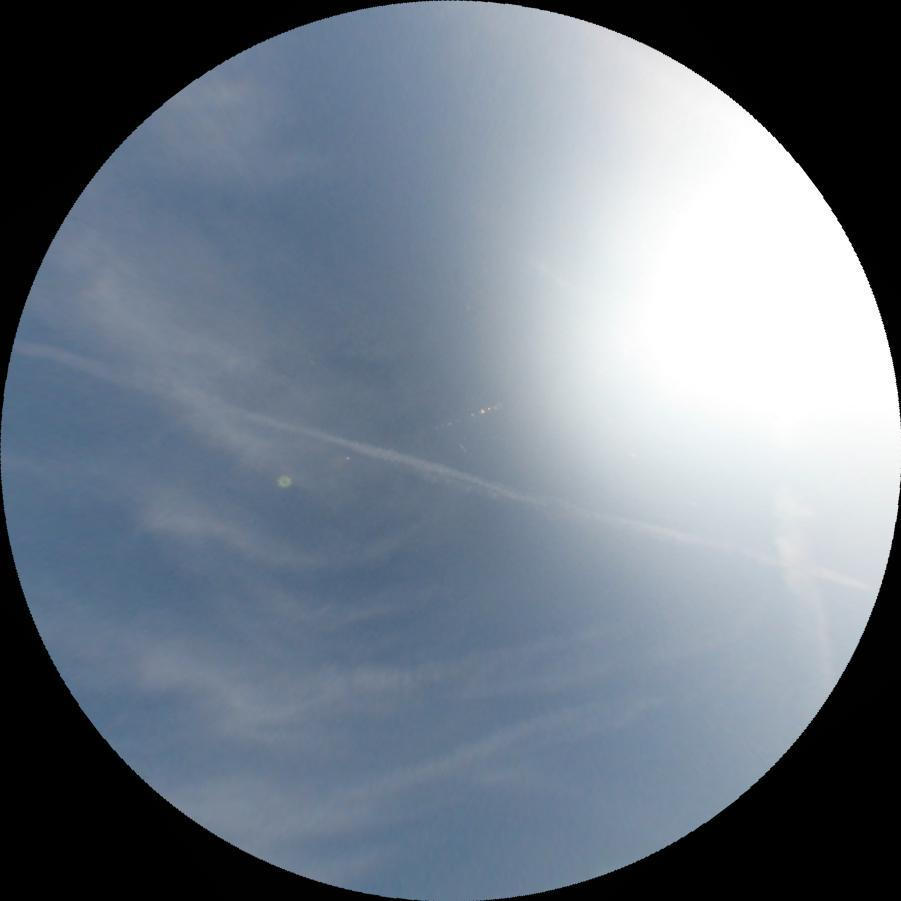contrail veryold: (9, 337, 875, 607), (243, 579, 788, 747), (318, 676, 666, 842), (766, 484, 839, 699)
